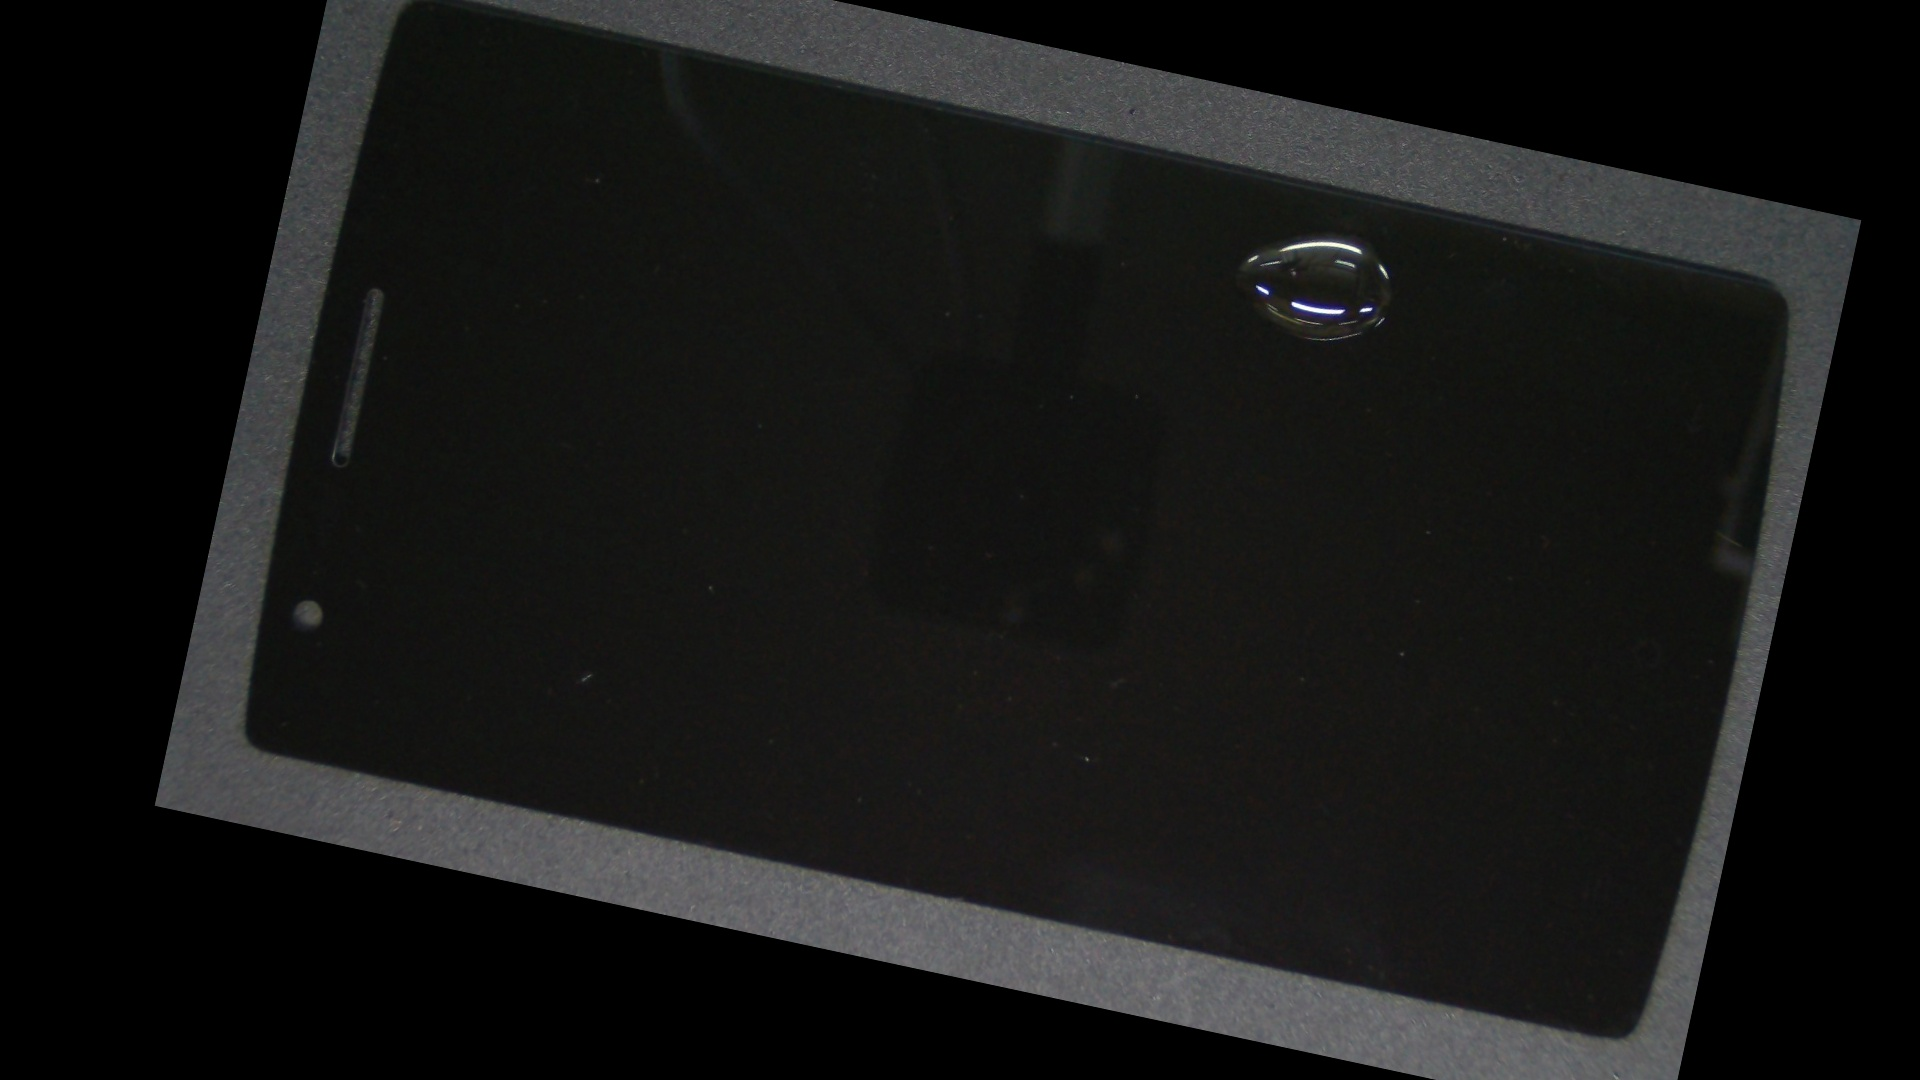oil: (822, 65, 1849, 400)
